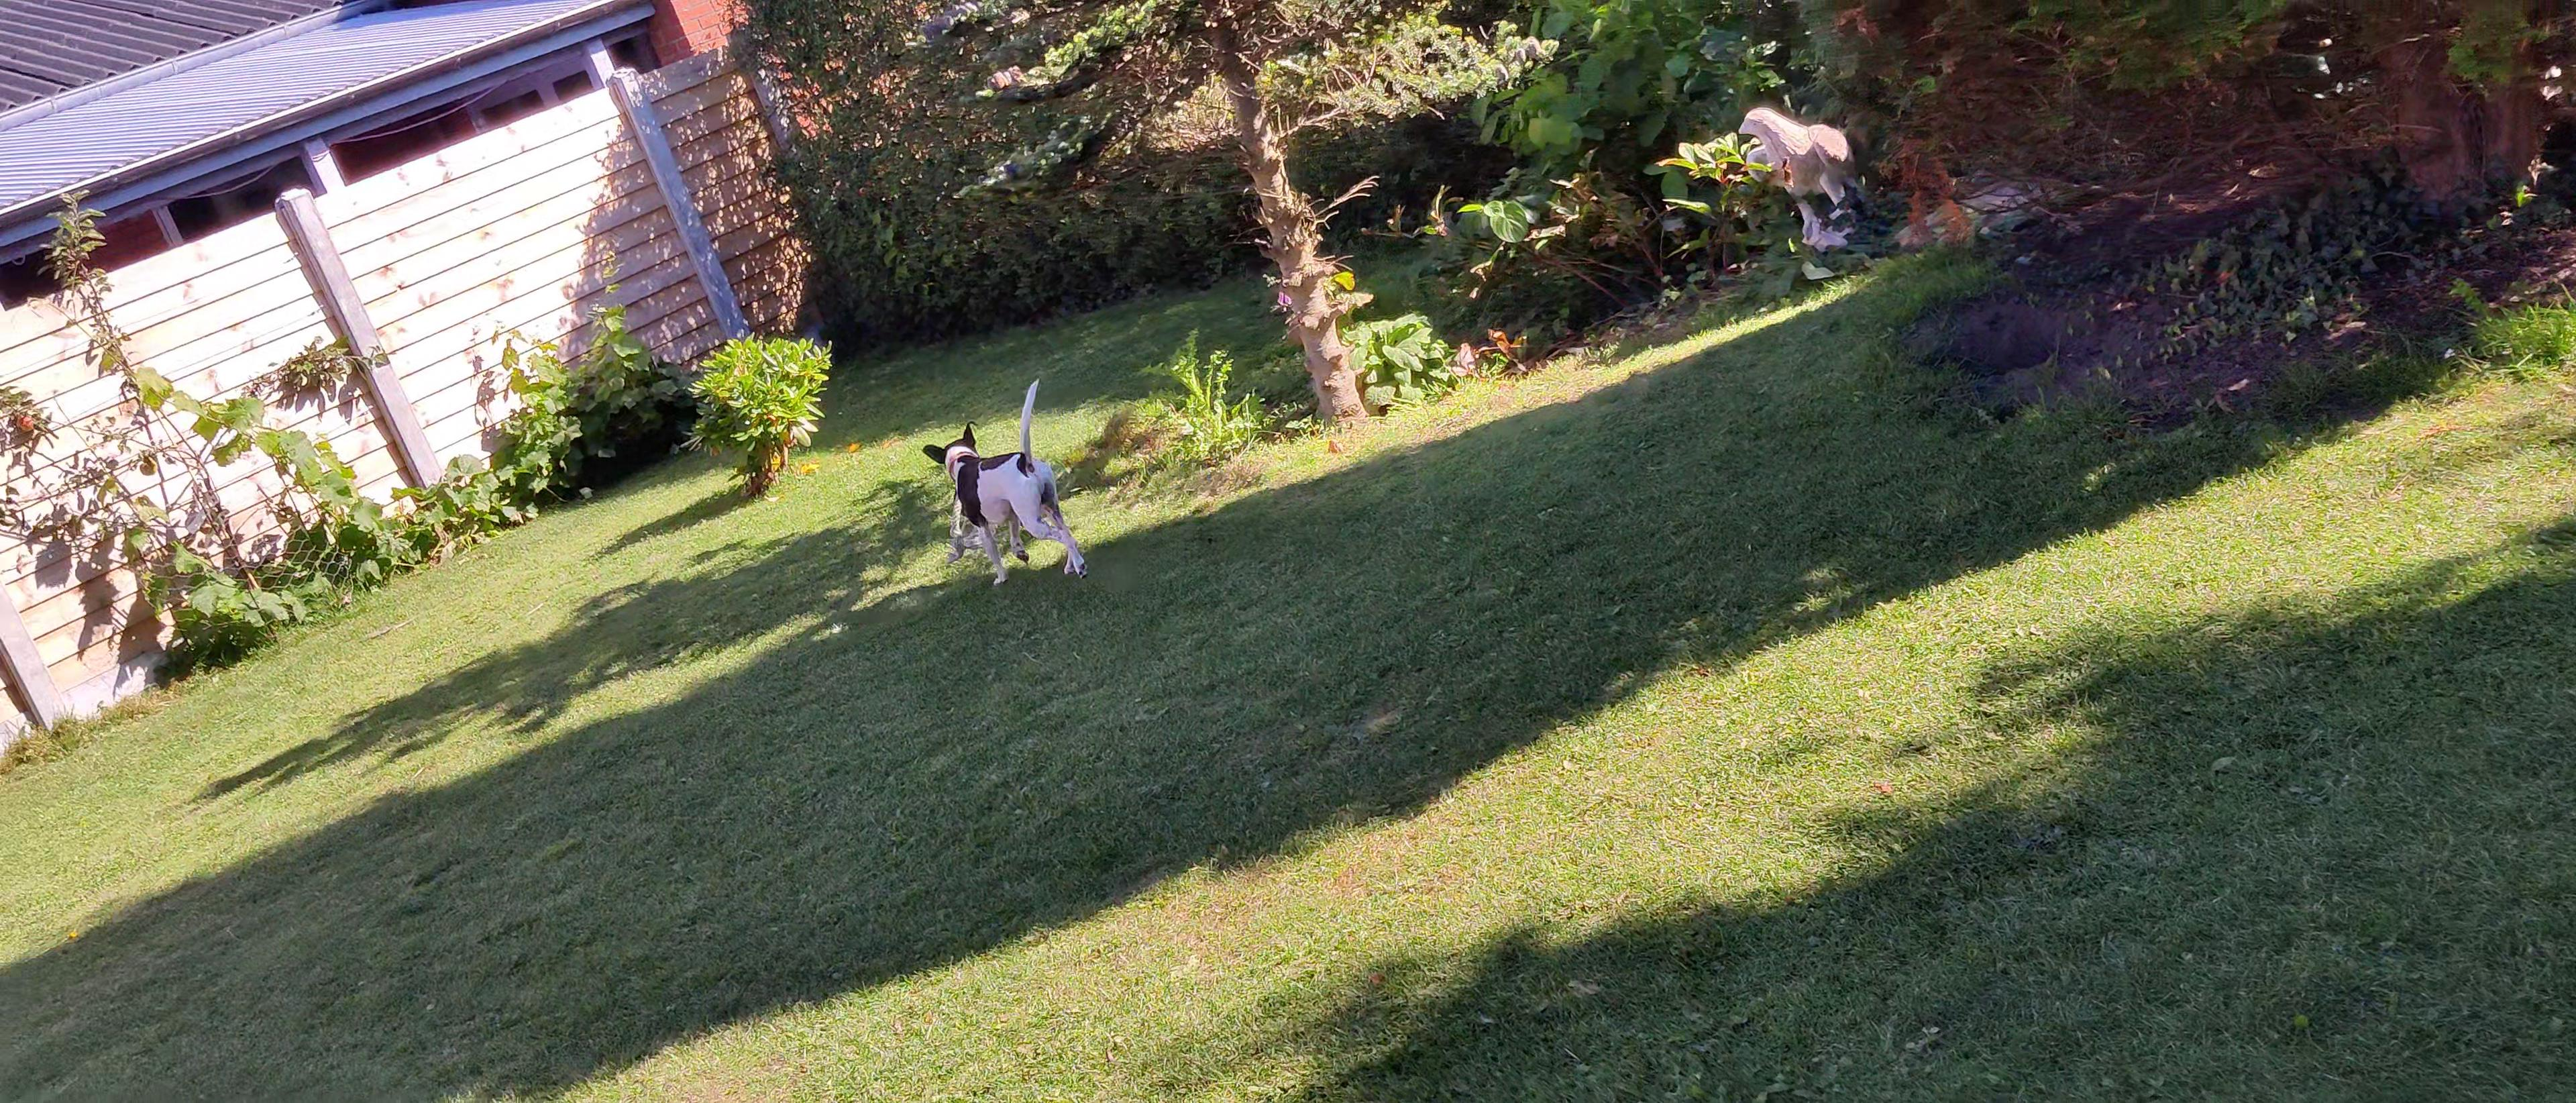Dog: (922, 376, 1091, 588)
